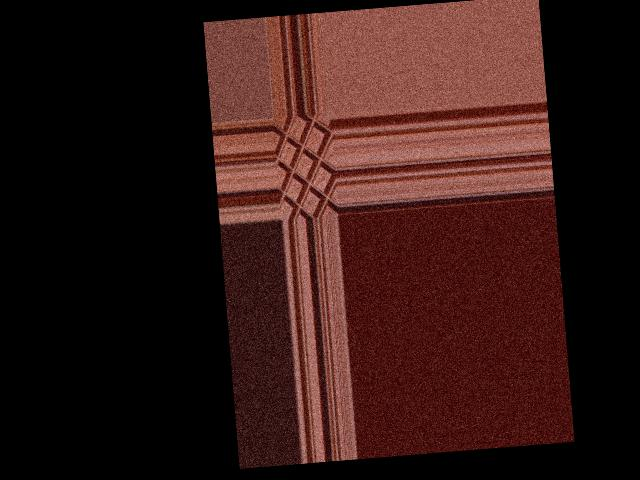chocolate: (274, 113, 339, 217)
